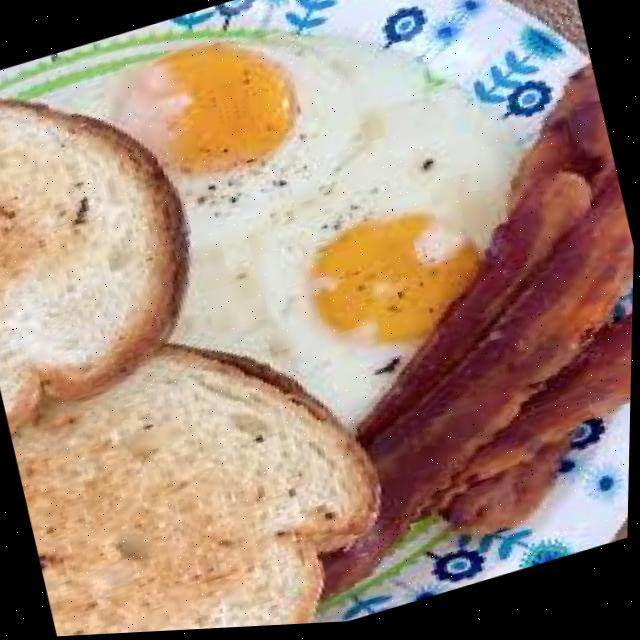Bacon: (360, 71, 613, 448), (369, 183, 635, 535), (438, 324, 634, 538)
Bread: (15, 347, 377, 637), (0, 102, 187, 419)
